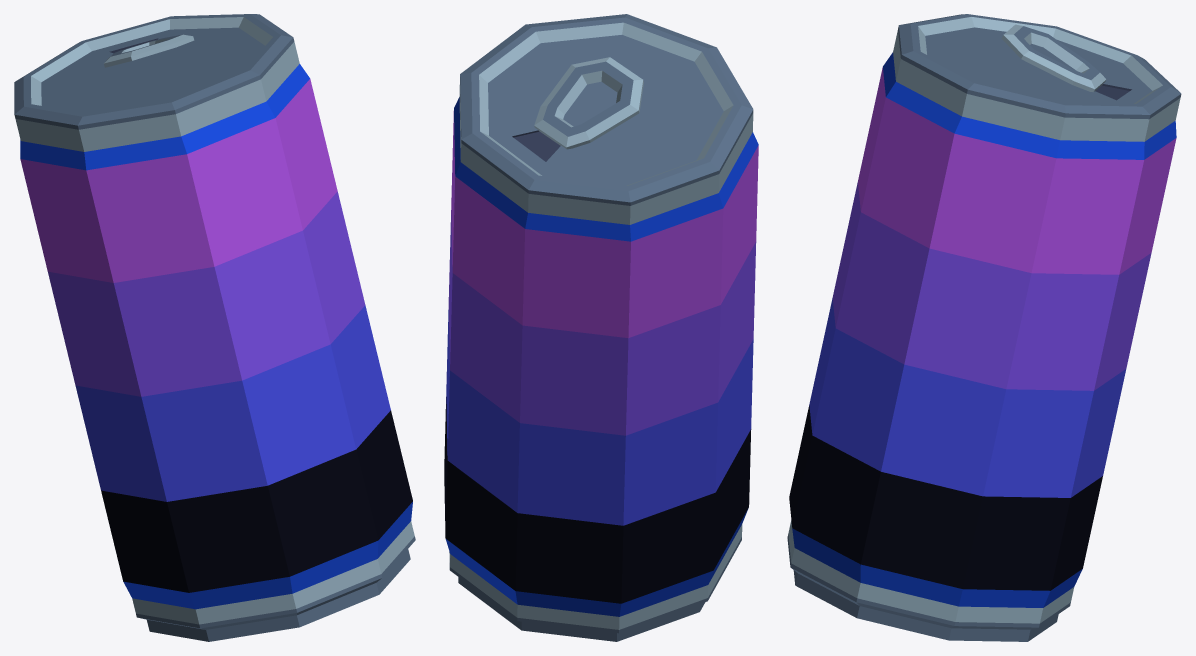
File: DrSwerve.TallFrien.fbx
3 renders of one model, left to right at view 1: azimuth 30°, elevation 25°; view 2: azimuth 150°, elevation 25°; view 3: azimuth 270°, elevation 25°, orthographic. The views are drawn at different scales.
Visible parts, largest first — view 1: DrSwerve.TallFrien; view 2: DrSwerve.TallFrien; view 3: DrSwerve.TallFrien.
Boxes of the visible parts, x1=… form: DrSwerve.TallFrien: x1=14, y1=14, x2=415, y2=641; DrSwerve.TallFrien: x1=444, y1=14, x2=758, y2=641; DrSwerve.TallFrien: x1=787, y1=14, x2=1181, y2=641.
Size of the model in its own units: 39.44 by 66.86 by 42.42.
